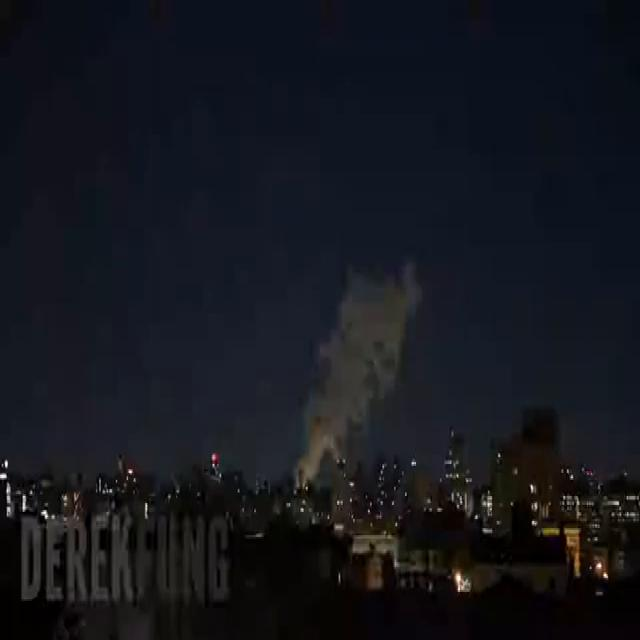smoke: (295, 261, 420, 478)
